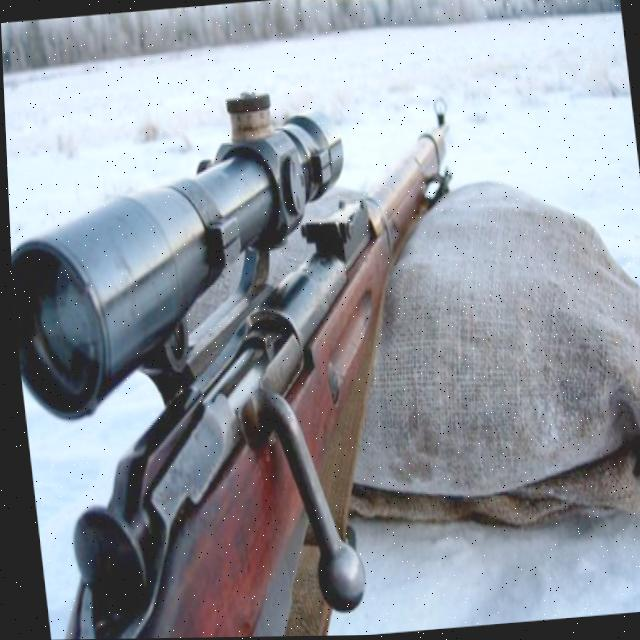firearm: (3, 90, 500, 640)
